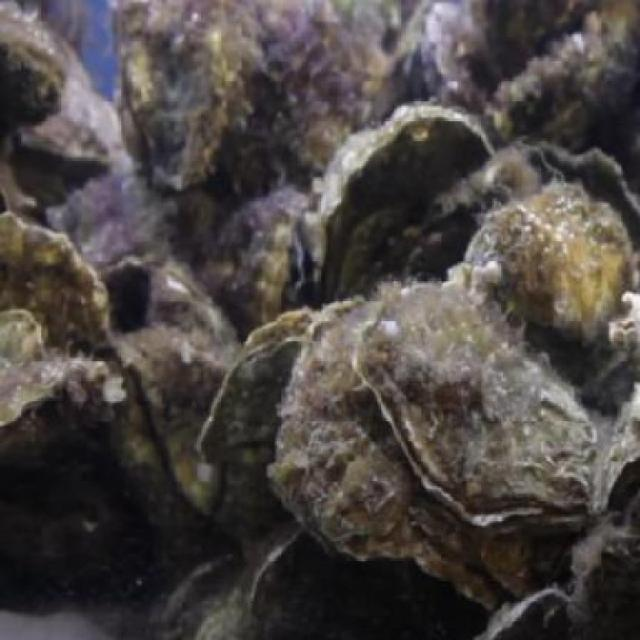Oyster- Indeterminate: (112, 6, 440, 217), (301, 104, 504, 305), (266, 319, 420, 562), (468, 184, 625, 352), (45, 182, 212, 300), (0, 216, 119, 376), (397, 494, 547, 620), (358, 0, 492, 140), (212, 189, 315, 339), (10, 98, 135, 206), (135, 255, 237, 345), (0, 8, 70, 133), (0, 307, 46, 378)
Oyster-Closed: (196, 312, 307, 480), (1, 347, 100, 438)
Oyster-Open: (341, 284, 596, 519), (483, 8, 640, 192), (112, 329, 238, 519), (474, 580, 602, 640), (598, 389, 640, 505)
